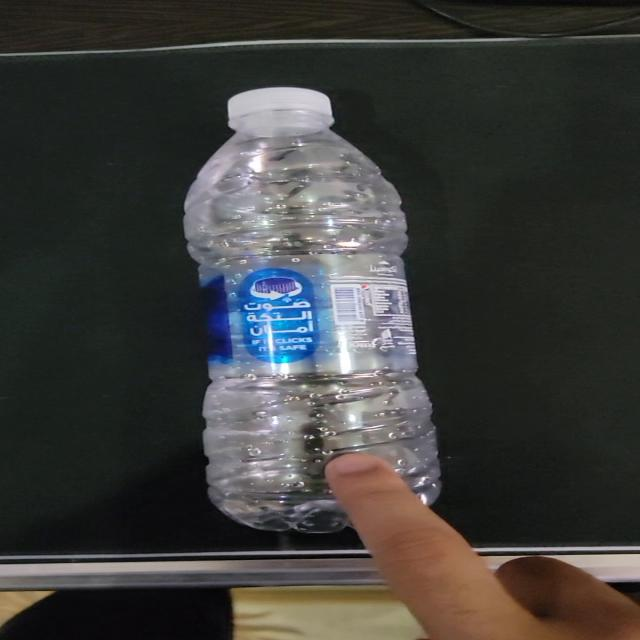Anorganik: (173, 84, 455, 538)
